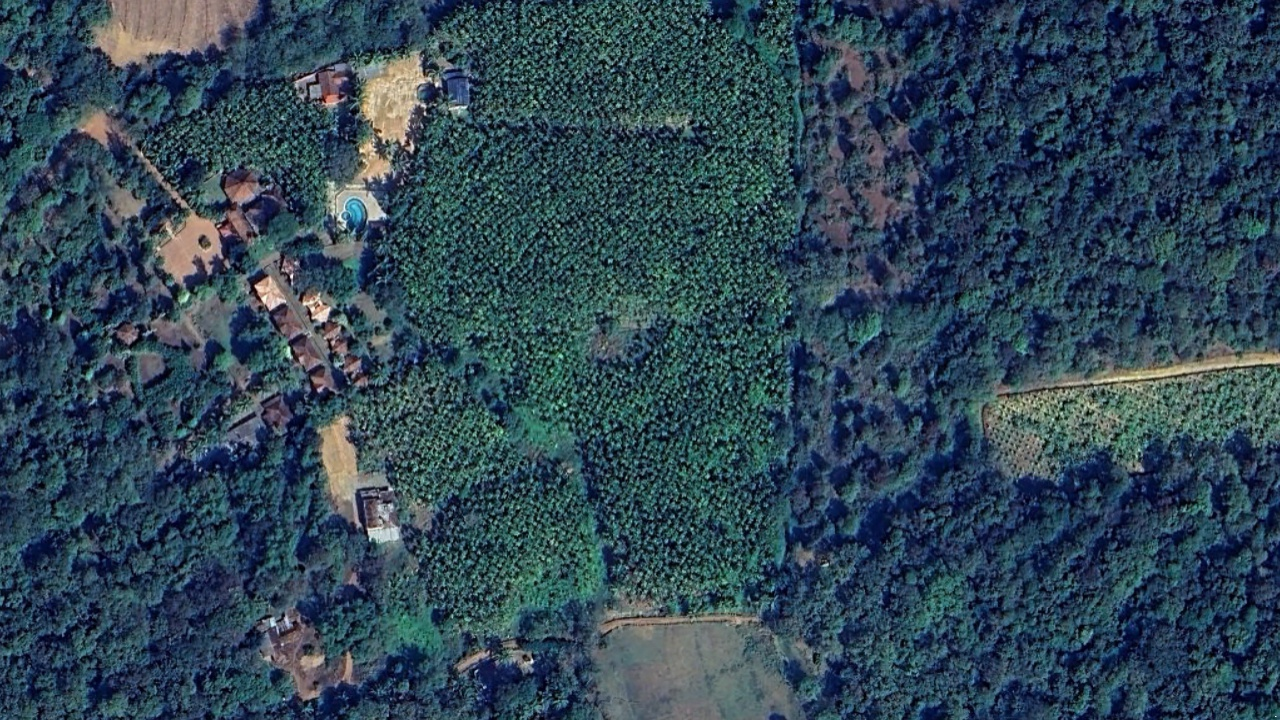arecanut: (385, 7, 798, 612), (360, 367, 588, 621), (146, 80, 334, 213)
